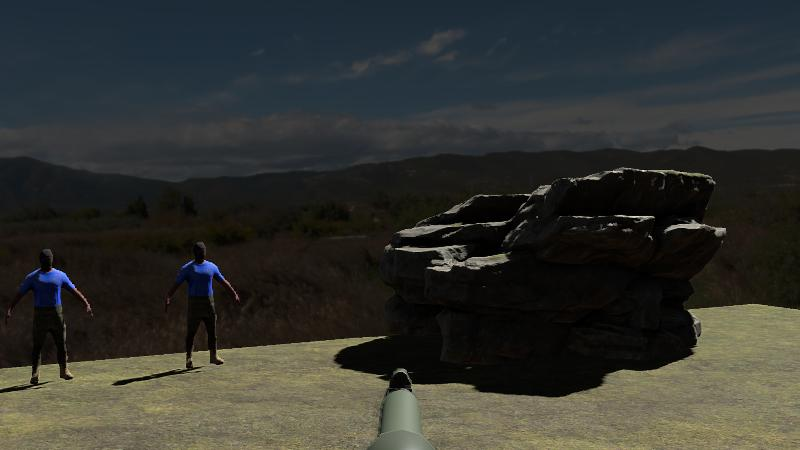Human: (6, 247, 92, 386), (165, 240, 240, 370)
